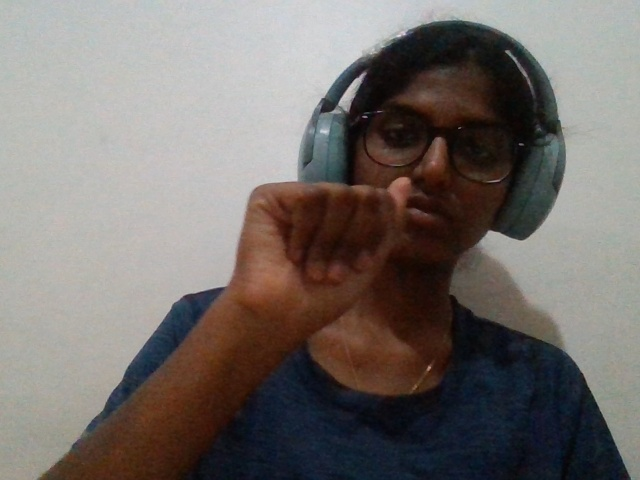A: (205, 166, 416, 379)
